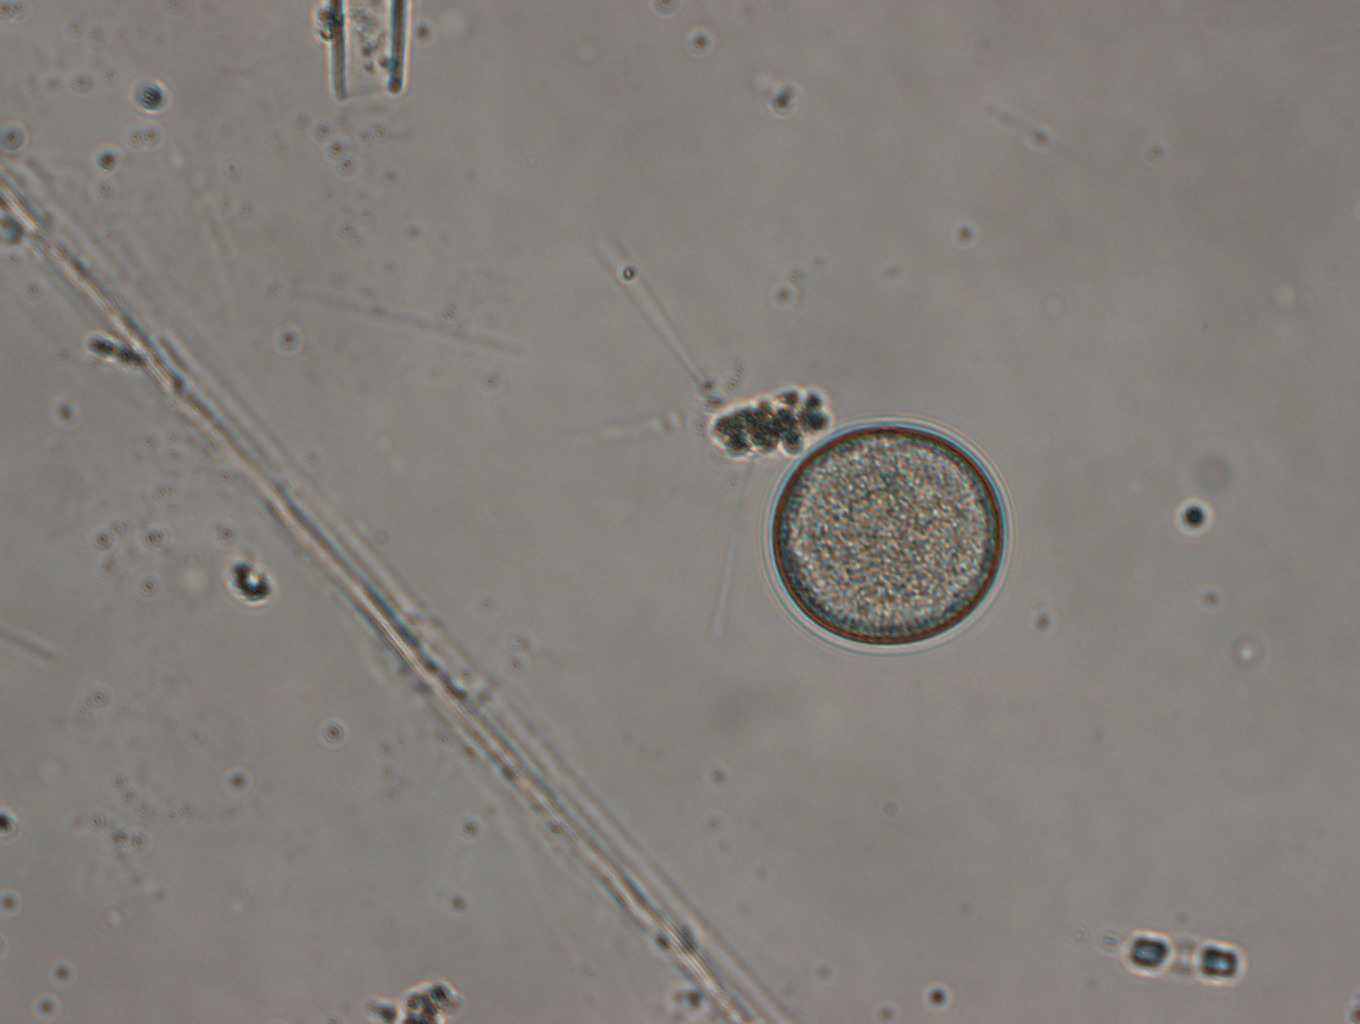coscinodiscus: (768, 425, 1007, 650)
